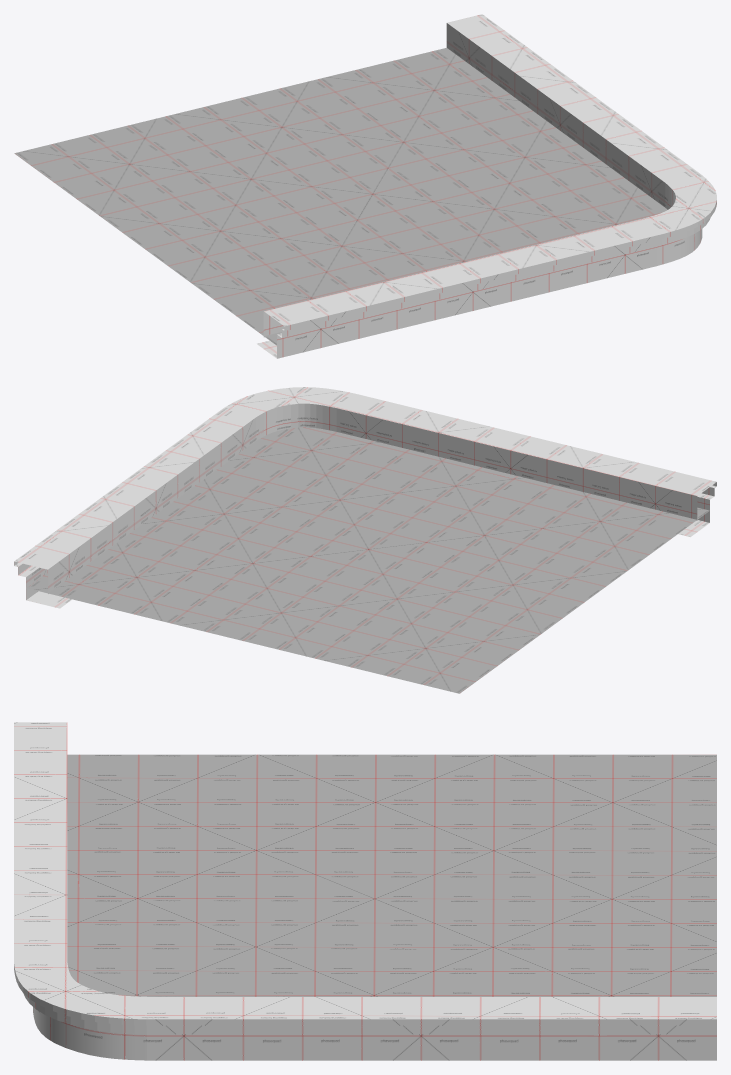
File: T_01_3x_round.FBX
3 renders of one model, top to bottom at view 1: azimuth 30°, elevation 25°; view 2: azimuth 150°, elevation 25°; view 3: azimuth 270°, elevation 25°, orthographic. The views are drawn at different scales.
Visible parts, largest first — view 1: R_01_3x_round; view 2: R_01_3x_round; view 3: R_01_3x_round.
Boxes of the visible parts, x1,y1,x2,y2 form: R_01_3x_round: [14, 14, 716, 358]; R_01_3x_round: [14, 387, 716, 693]; R_01_3x_round: [14, 722, 716, 1060].
Size of the model in its own units: 61.68 by 61.68 by 4.76.
